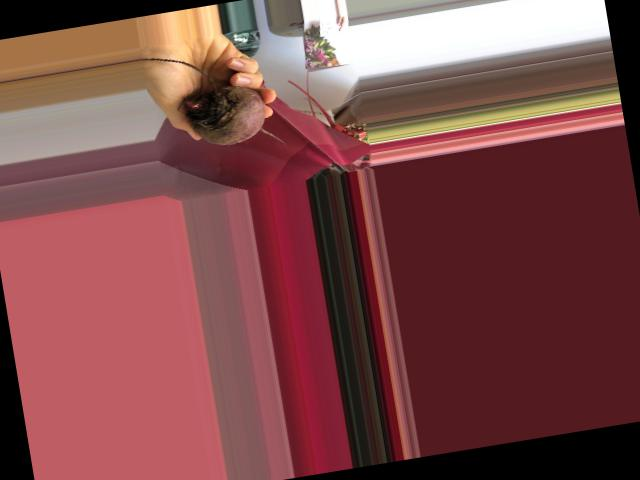beet: (142, 37, 287, 166)
